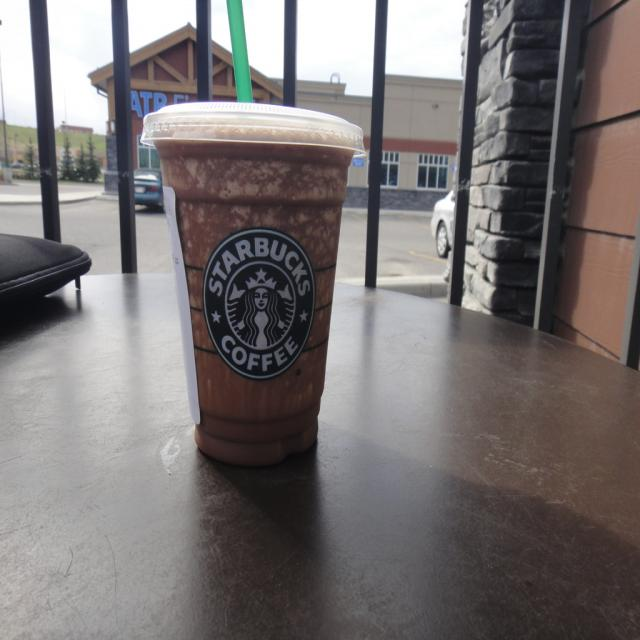Coffee: (154, 122, 342, 476)
